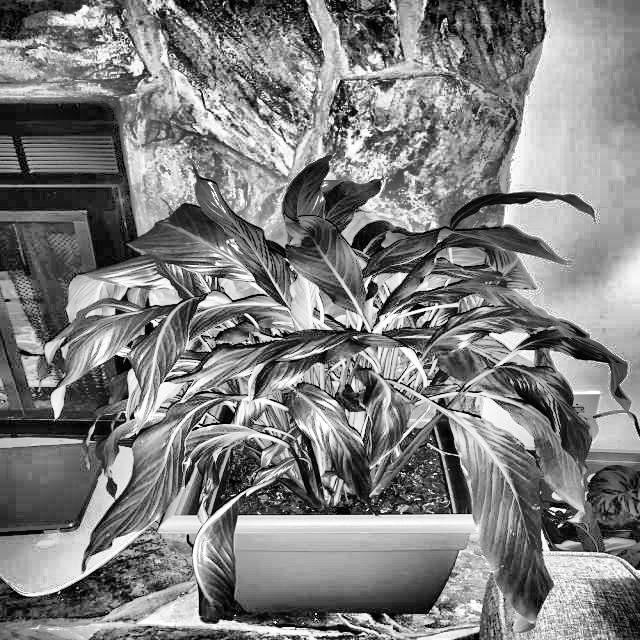plants: (53, 172, 636, 640)
